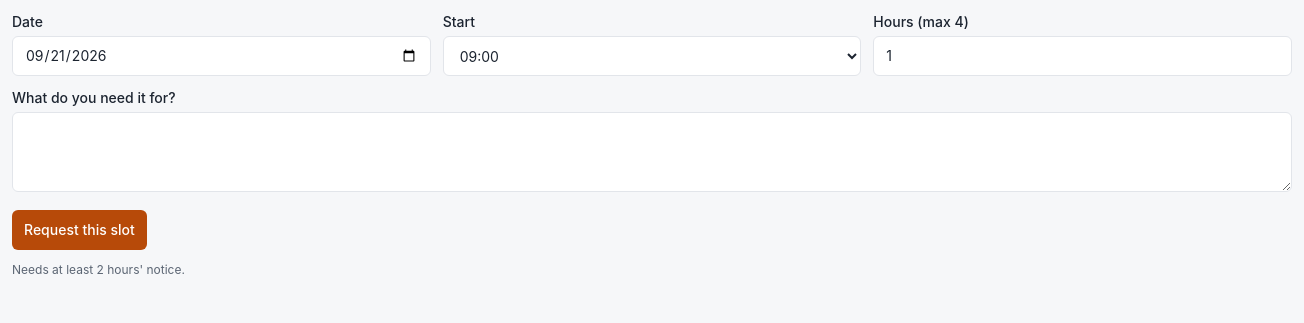
Scenario: BookingForm › sends the picked slot and reports what happened
Type "Calibrating the probes" into the text box labelled "What do you need it for?".
click(652, 152); type("Calibrating the probes")  # box left=12, top=112, right=1292, bottom=192
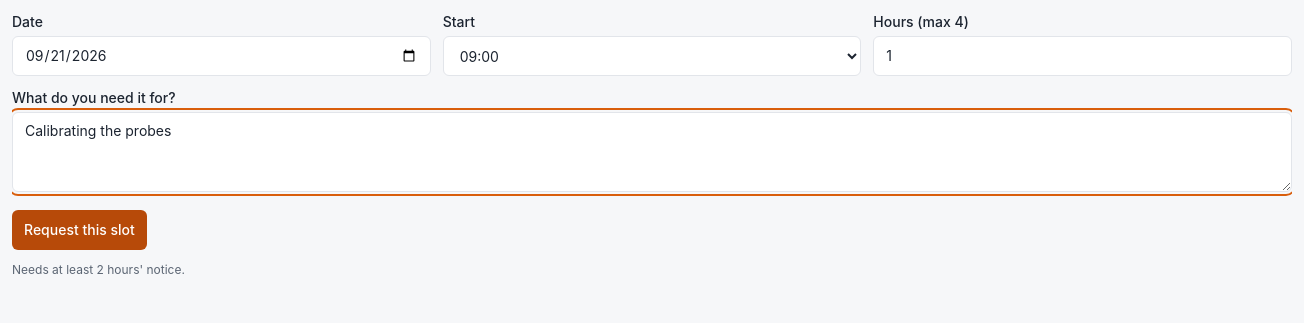
Click the button "Request this slot".
click(79, 230)  # box left=12, top=210, right=147, bottom=250
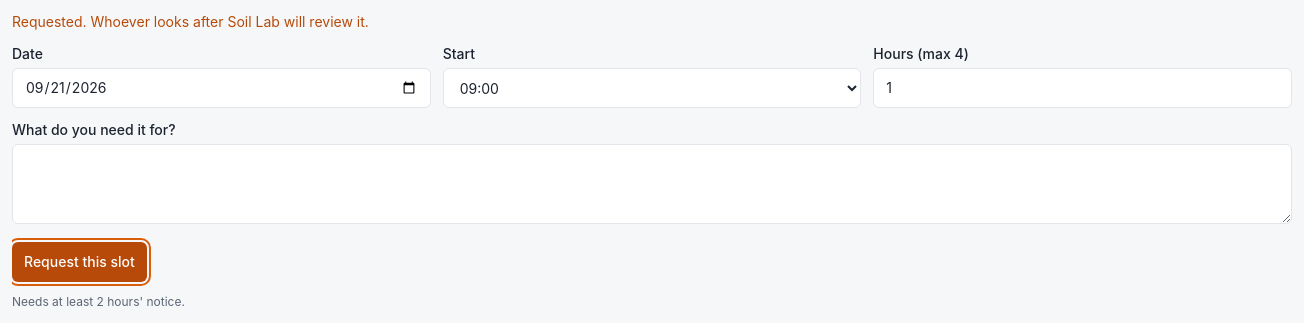
Now the text "Requested. Whoever looks after Soil Lab will review it." is shown, box left=12, top=13, right=369, bottom=30
